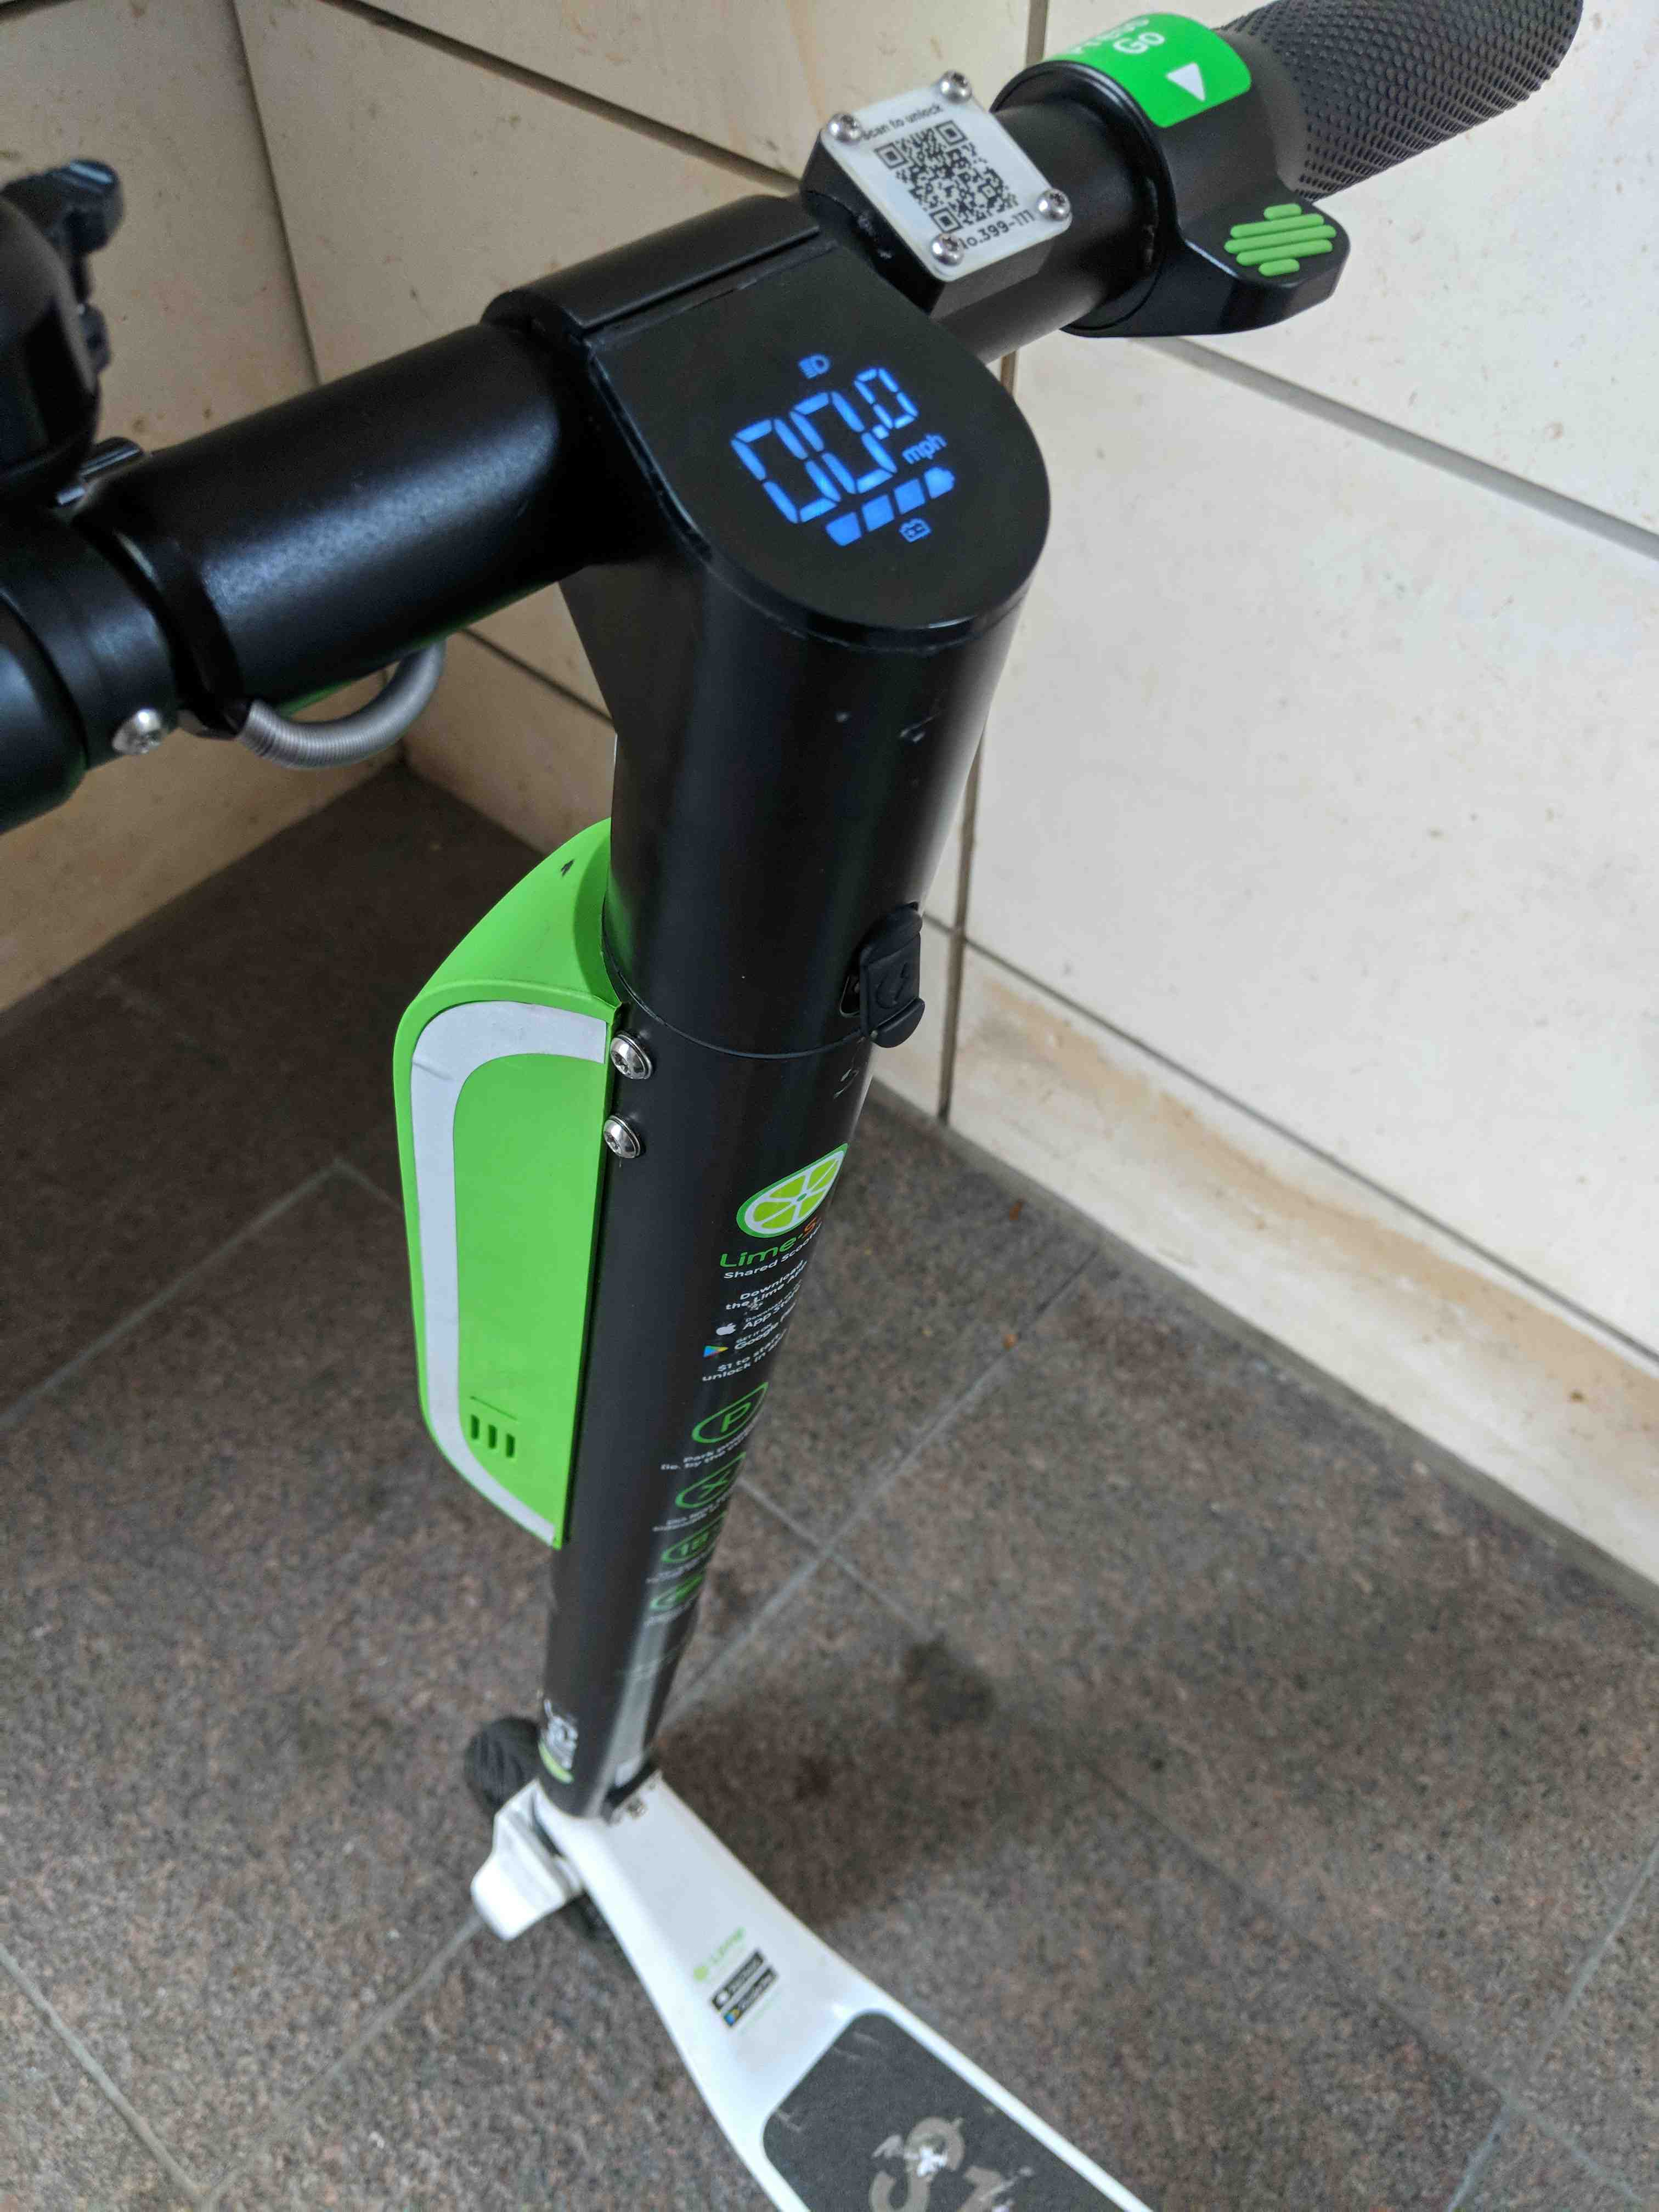scooter: (9, 37, 1635, 2212)
